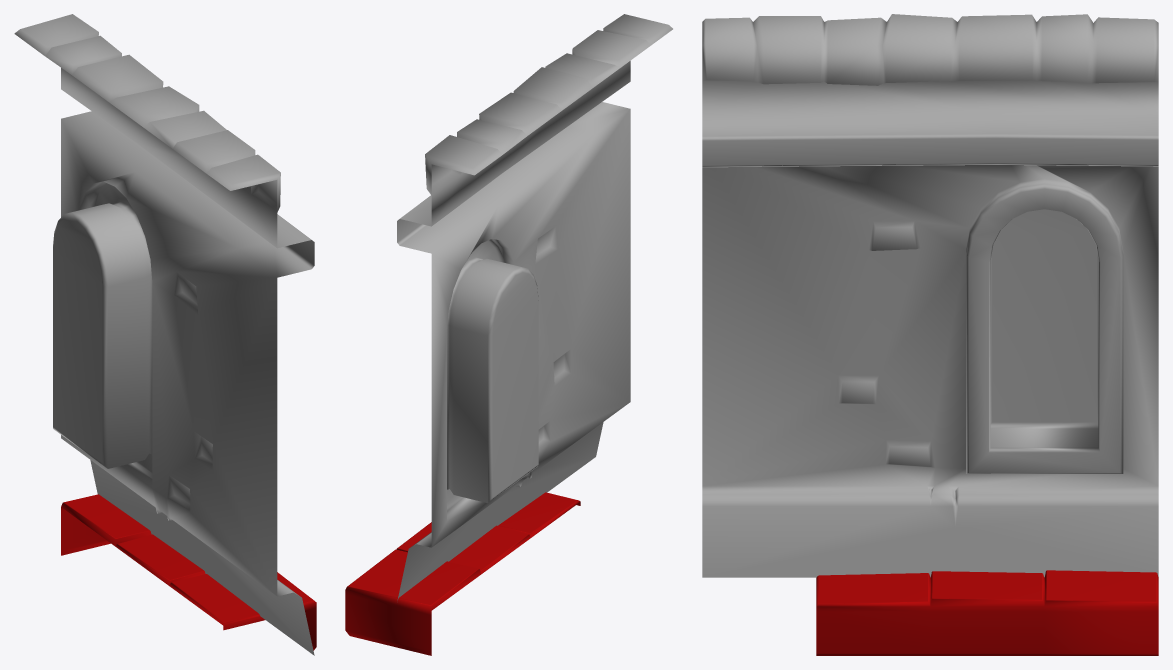
Rendered from SM_castle_wall_arch_r_low.fbx.
3 views of the same model, side by side, from view 1: azimuth 30°, elevation 25°; view 2: azimuth 150°, elevation 25°; view 3: azimuth 270°, elevation 25° (orthographic). The views are drawn at different scales.
Parts seen in each view (by area): view 1: SM_castle_wall_arch_r_wall_low, SM_castle_wall_arch_r_floor_low; view 2: SM_castle_wall_arch_r_wall_low, SM_castle_wall_arch_r_floor_low; view 3: SM_castle_wall_arch_r_wall_low, SM_castle_wall_arch_r_floor_low.
Part boxes in pixels (x1,y1,x2,y2): SM_castle_wall_arch_r_wall_low: [14, 14, 314, 655]; SM_castle_wall_arch_r_floor_low: [61, 494, 316, 650]; SM_castle_wall_arch_r_wall_low: [397, 14, 672, 600]; SM_castle_wall_arch_r_floor_low: [345, 492, 580, 655]; SM_castle_wall_arch_r_wall_low: [702, 14, 1158, 577]; SM_castle_wall_arch_r_floor_low: [816, 570, 1158, 655].
Size of the model in its own units: 150 by 555 by 400.
